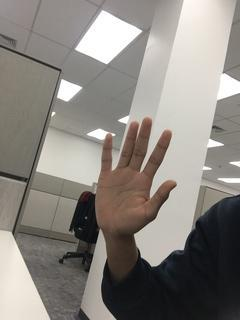hand: (94, 115, 178, 234)
